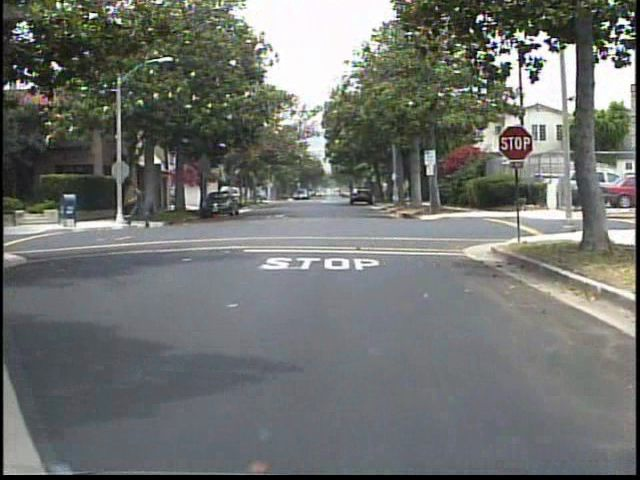person: (126, 177, 151, 233)
